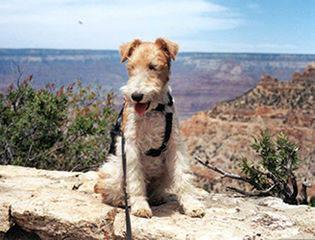wire-haired_fox_terrier: (95, 37, 205, 218)
